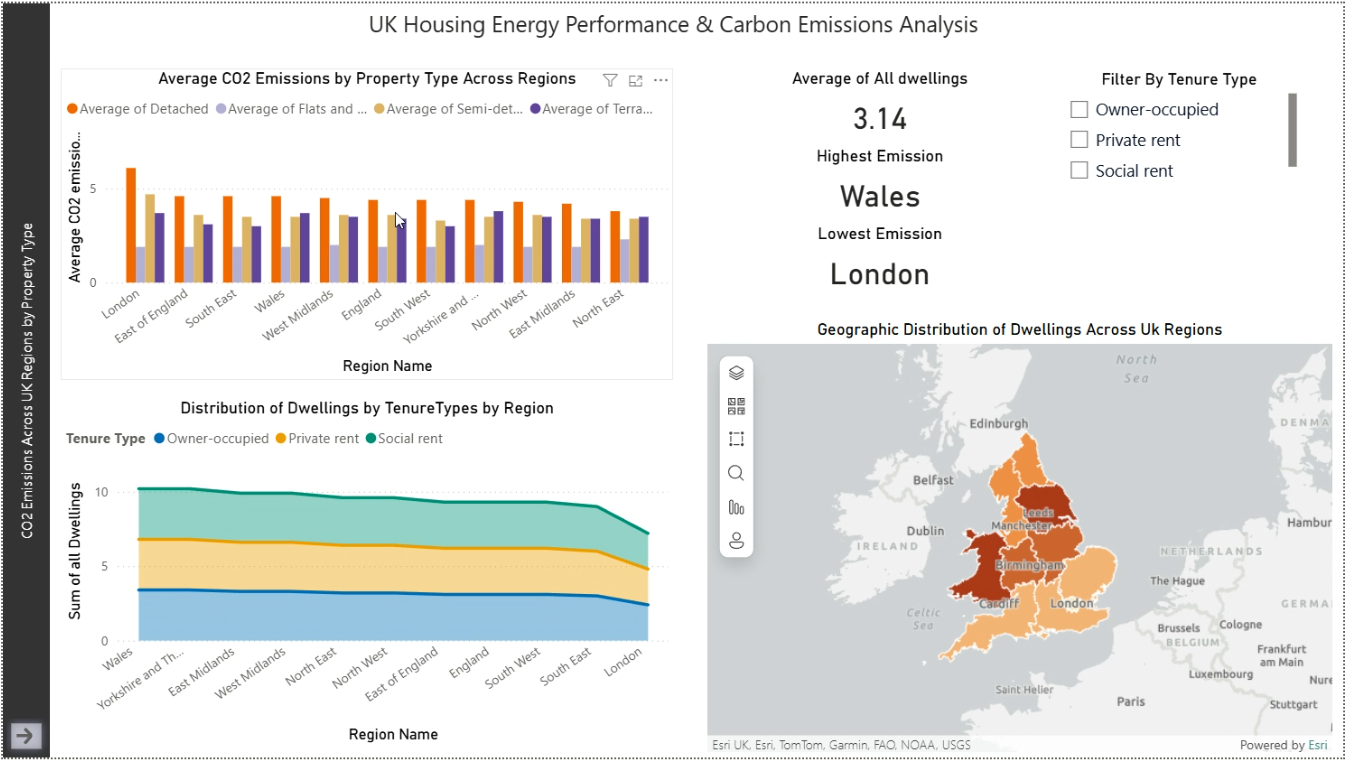

The page's visual inventory and layout, read from the dashboard file:
{"tool":"powerbi","page":{"name":"CO2 Emissions","canvas":[1280,720],"ordinal":0},"visuals":[{"type":"clusteredColumnChart","title":"Average CO2 Emissions by Property Type Across Regions","fields":{"Category":["1b.Country or region name"],"Y":["Avg(1b_carbon.Detached)","Avg(1b_carbon.Flats and maisonettes)","Avg(1b_carbon.Semi-detached)","Avg(1b_carbon.Terraced)"]},"box":[54.8,62.4,585.1,296.8],"z":0},{"type":"stackedAreaChart","title":"Distribution of Dwellings by TenureTypes by Region","fields":{"Category":["1c_energy_housing.Country or region name"],"Y":["Sum(1b_carbon.All dwellings)"],"Series":["1c_energy_housing.Tenure Type"]},"box":[54.8,376.9,585.1,333.9],"z":1000},{"type":"textbox","box":[0,0,1280,62.2],"z":2000},{"type":"esriVisual","title":"Geographic Distribution  of Dwellings  Across  Uk Regions ","fields":{"Location":["1b_energy_housing.Country or region name"],"Color":["Sum(1b_carbon.All dwellings)"]},"box":[666.9,301.8,607,418.2],"z":3000},{"type":"card","title":"Average of All dwellings","fields":{"Values":["Avg(1b_carbon.All dwellings)"]},"box":[711,62.2,251.9,73.9],"z":4000},{"type":"card","title":"Highest Emission","fields":{"Values":["Min(1b_carbon.Country or region name)"]},"box":[711,136.2,251.9,73.9],"z":5000},{"type":"card","title":"Lowest Emission","fields":{"Values":["Min(1b_carbon.Country or region name)"]},"box":[711,210.1,251.9,72.9],"z":6000},{"type":"slicer","title":"Filter By Tenure Type","fields":{"Values":["1c_energy_housing.Tenure Type"]},"box":[1005.7,62.7,233.7,110.1],"z":7000},{"type":"shape","title":"Left Nav Background","box":[0,0,44.8,720],"z":8000},{"type":"actionButton","box":[0,679.7,44.8,40.3],"z":9000}]}

Visuals, with their boxes in screenshot pixels (x1, y1, x2, y2), scaled from the page's 1280x720 canvas onto the 1348x768 screenshot:
"Average CO2 Emissions by Property Type Across Regions" clusteredColumnChart: bbox(58, 67, 674, 383)
"Distribution of Dwellings by TenureTypes by Region" stackedAreaChart: bbox(58, 402, 674, 758)
textbox: bbox(0, 0, 1347, 66)
"Geographic Distribution  of Dwellings  Across  Uk Regions " esriVisual: bbox(702, 322, 1342, 767)
"Average of All dwellings" card: bbox(749, 66, 1014, 145)
"Highest Emission" card: bbox(749, 145, 1014, 224)
"Lowest Emission" card: bbox(749, 224, 1014, 302)
"Filter By Tenure Type" slicer: bbox(1059, 67, 1305, 184)
"Left Nav Background" shape: bbox(0, 0, 47, 767)
actionButton: bbox(0, 725, 47, 767)
